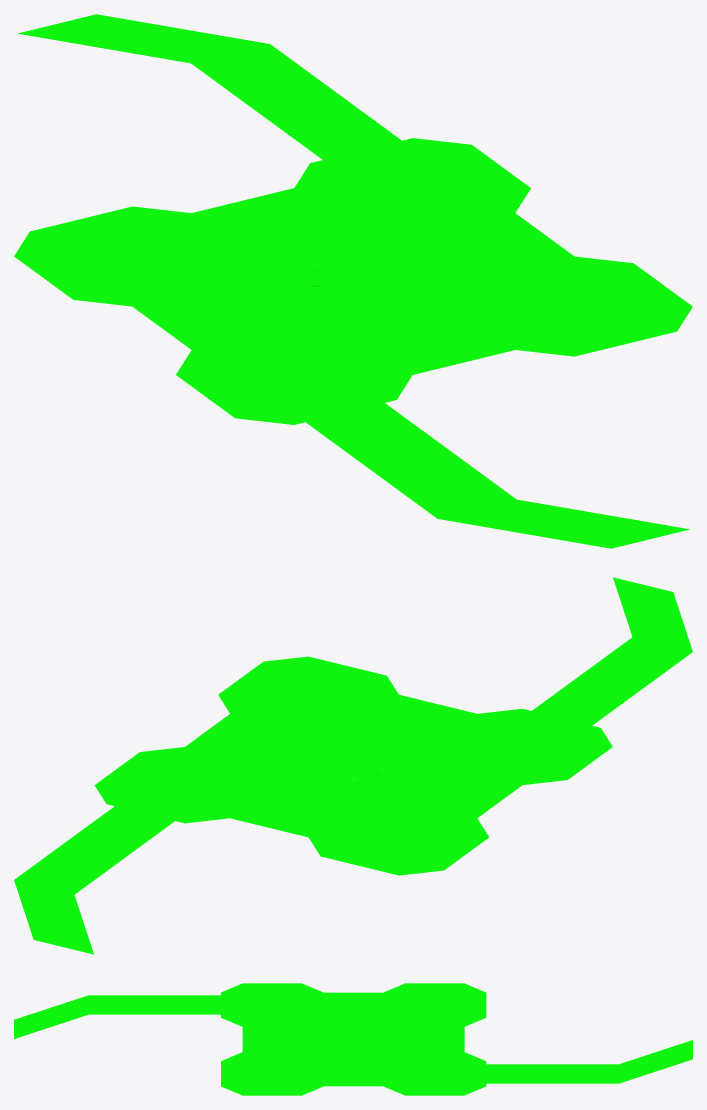
The model's file is s02e_ia1-floor.glb.
3 views of the same model, one above another, from view 1: azimuth 30°, elevation 25°; view 2: azimuth 150°, elevation 25°; view 3: azimuth 270°, elevation 25° (orthographic). The views are drawn at different scales.
Visible parts, largest first — view 1: collision_floor-colonly; view 2: collision_floor-colonly; view 3: collision_floor-colonly.
Boxes of the visible parts, left/top/right/bottom form: collision_floor-colonly: left=14, top=14, right=692, bottom=548; collision_floor-colonly: left=14, top=577, right=692, bottom=954; collision_floor-colonly: left=14, top=983, right=692, bottom=1095.
Size of the model in its own units: 34.65 by 0.2578 by 88.66.
